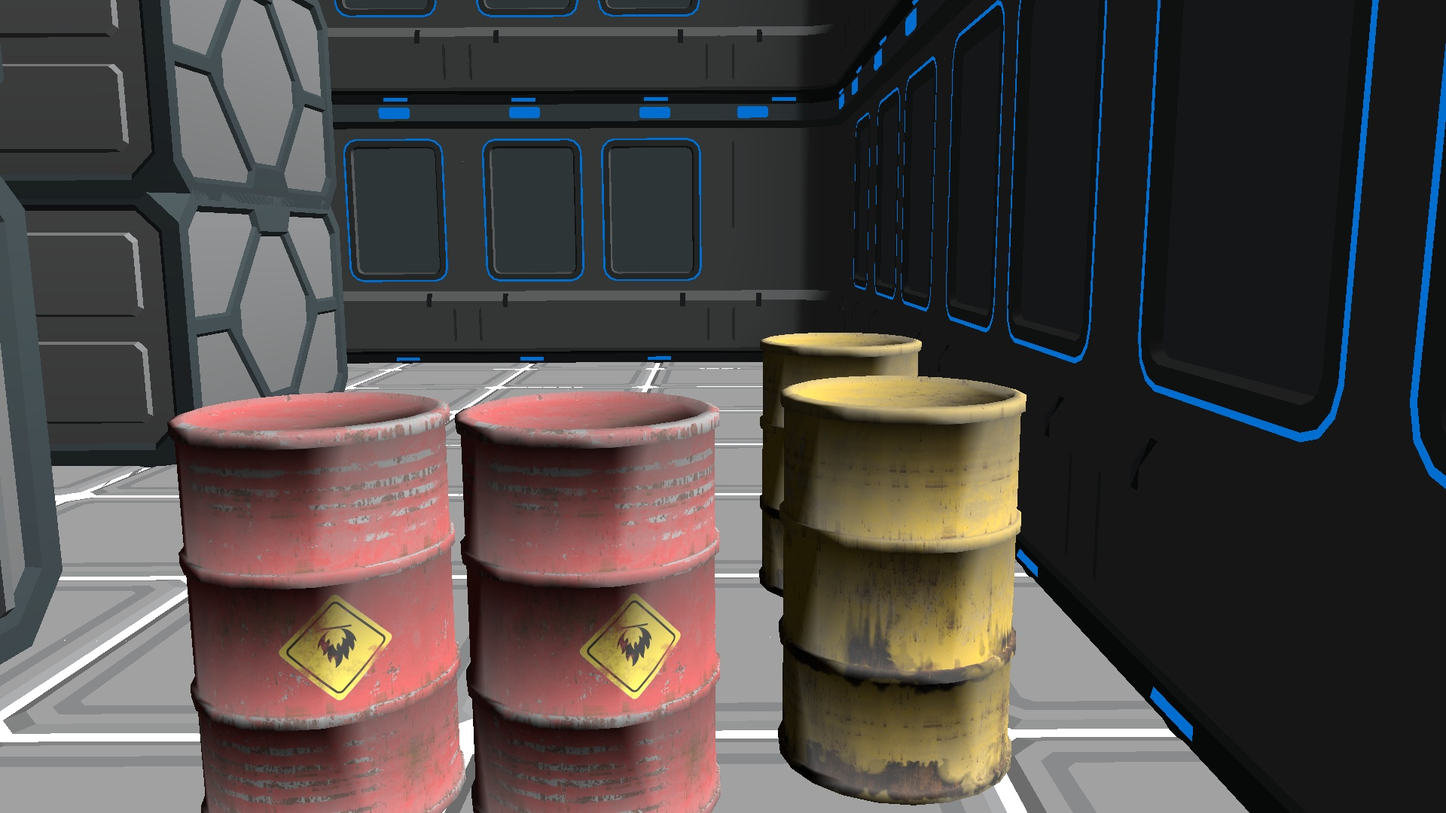toxic barrel: (169, 391, 465, 813), (455, 391, 721, 812), (780, 374, 1027, 805), (759, 334, 921, 598)
